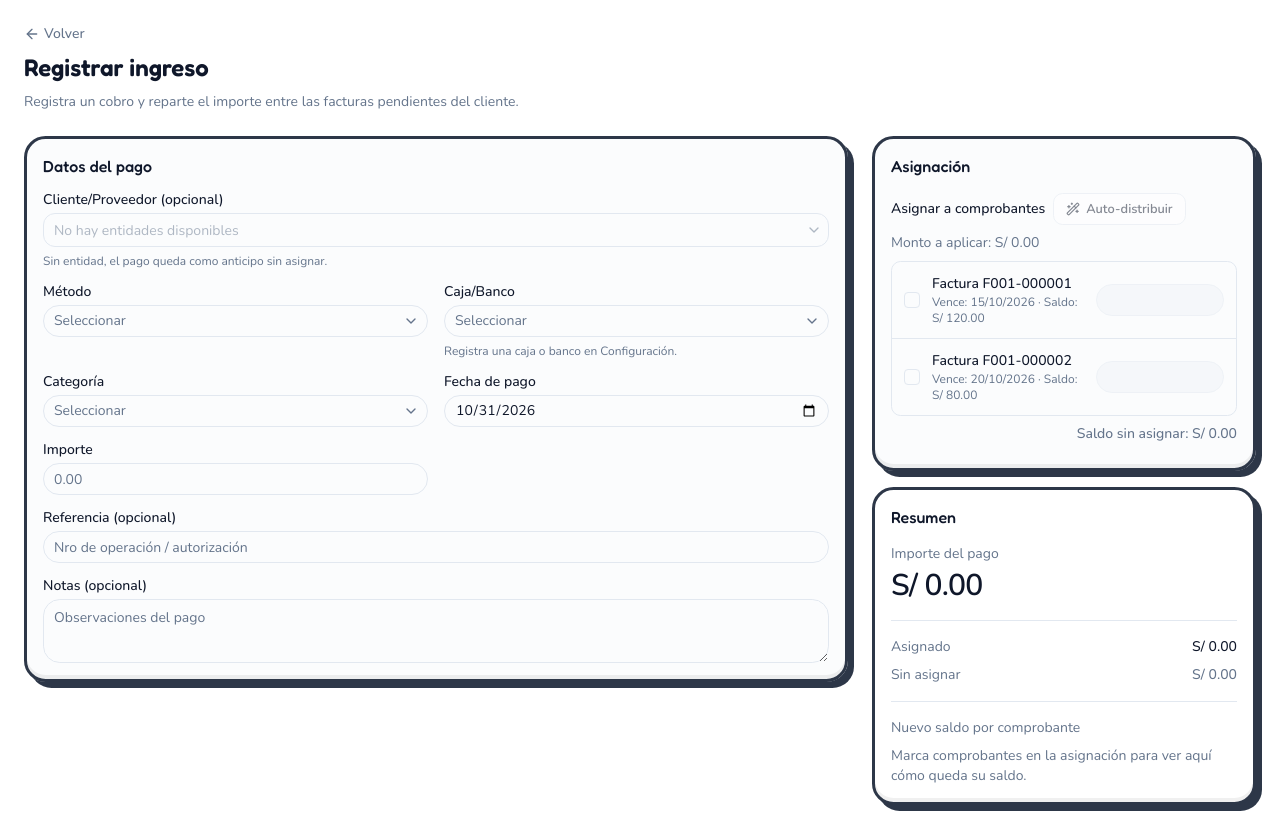
PaymentsCreateView › avisa cuando el reparto supera el importe del pago (SPEC 37)
Expected: the number of checkboxes is 2, [904, 292, 920, 308]; [904, 369, 920, 385]
Type "100" into the number field labelled "Importe" at (236, 479), box [43, 463, 428, 495]
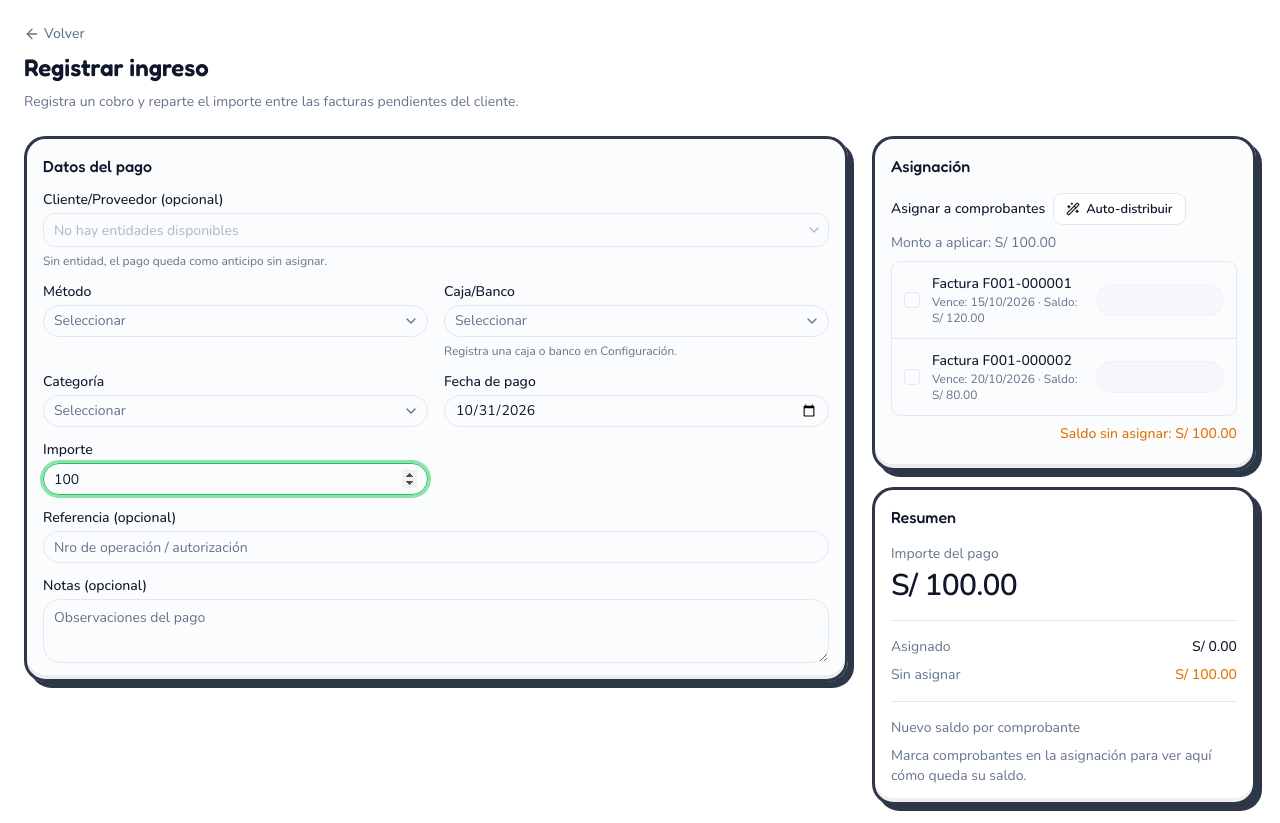
Click the checkbox in the row of "15/10/2026" at (912, 300), box [904, 292, 920, 308]
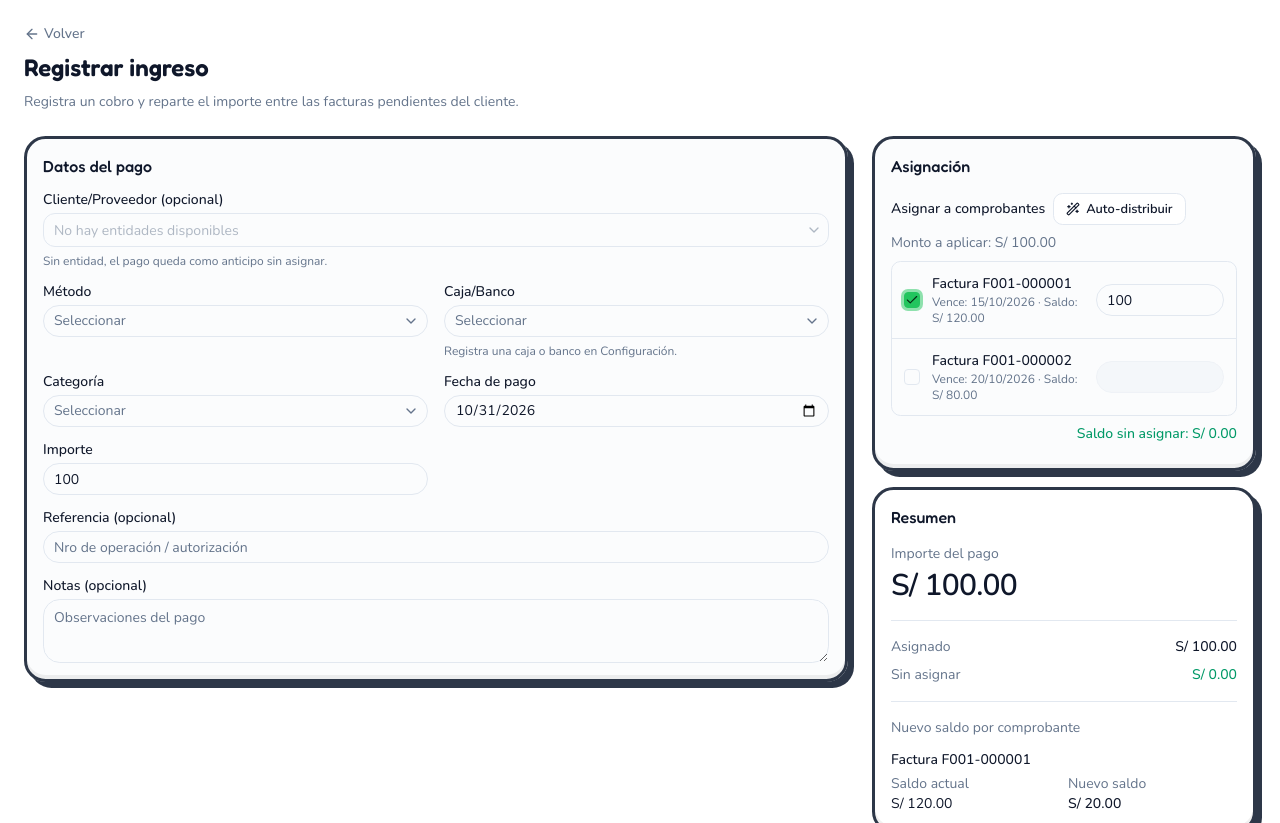
Replace the text in the number field named "Importe a asignar a F001-000001" with "99999" at (1160, 300), box [1096, 284, 1224, 316]
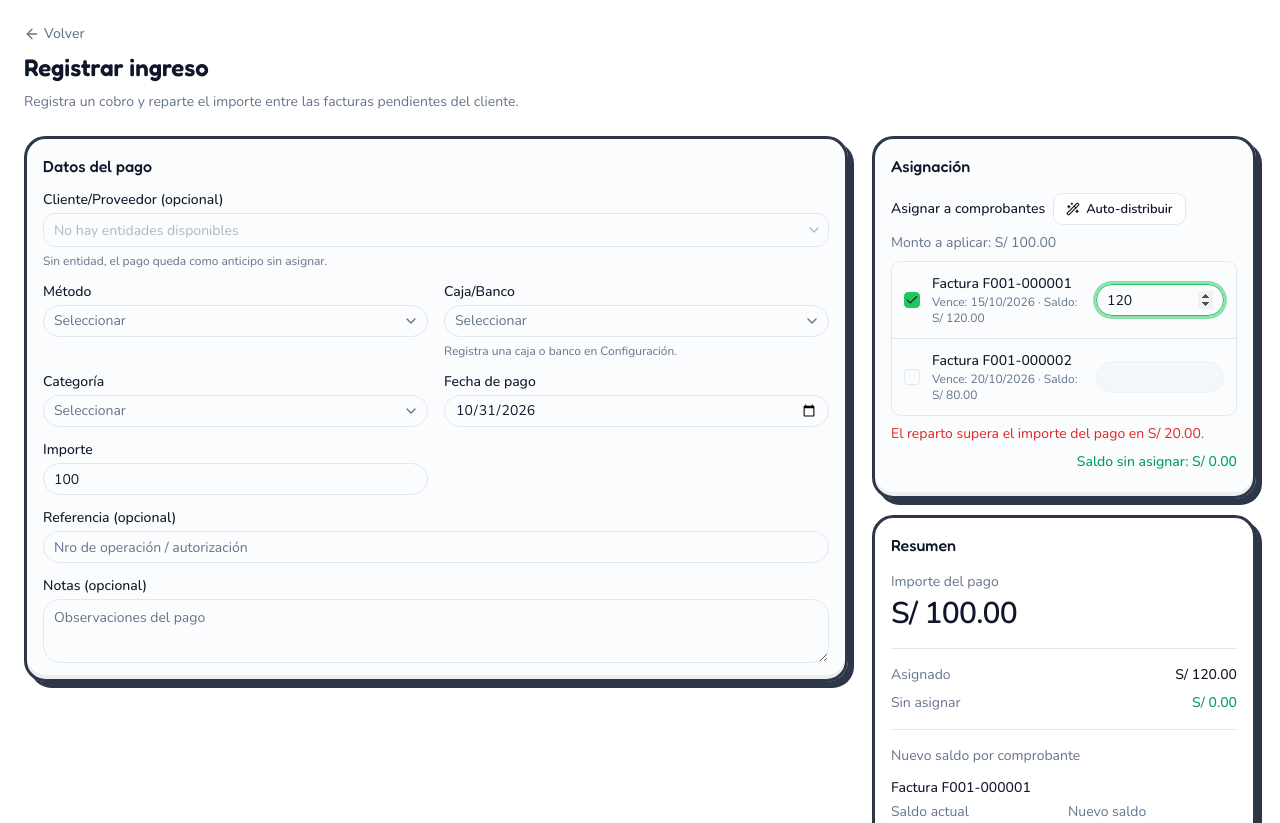
Now the text "El reparto supera el importe del pago en S/ 20.00." is shown, box [891, 424, 1237, 444]
